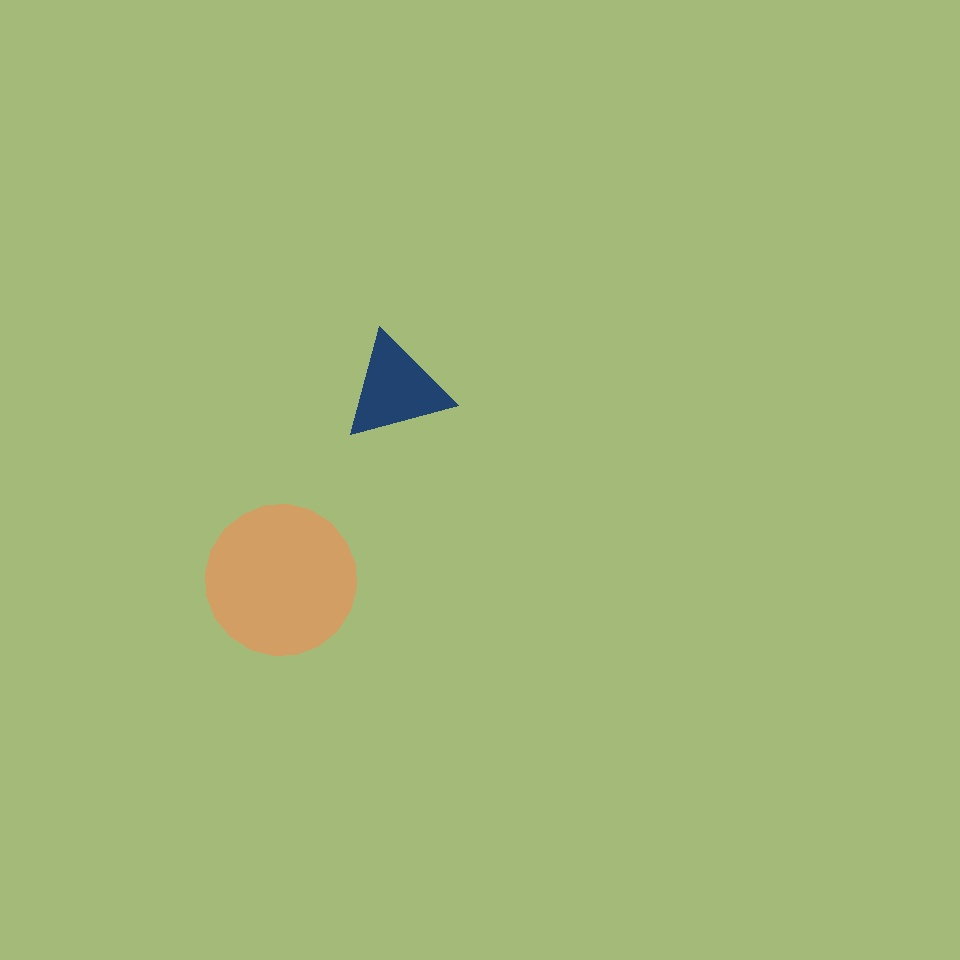circle: (342, 335, 450, 443)
triangle: (206, 504, 356, 655)
